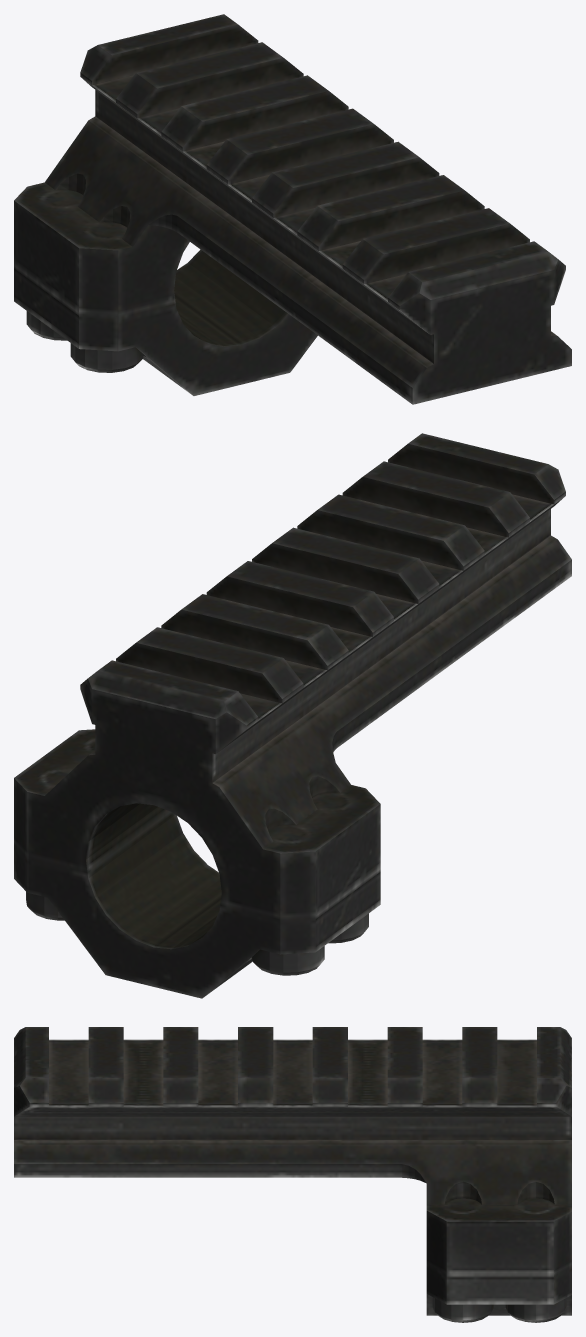
3 renders of one model, top to bottom at view 1: azimuth 30°, elevation 25°; view 2: azimuth 150°, elevation 25°; view 3: azimuth 270°, elevation 25°, orthographic. The views are drawn at different scales.
Parts seen in each view (by area): view 1: TW_5e569a132642e66b0b68015c_PZ_Import; view 2: TW_5e569a132642e66b0b68015c_PZ_Import; view 3: TW_5e569a132642e66b0b68015c_PZ_Import.
Part boxes in pixels (box(x1,y1,x2,y2)): TW_5e569a132642e66b0b68015c_PZ_Import: box(14, 14, 571, 404); TW_5e569a132642e66b0b68015c_PZ_Import: box(14, 433, 571, 998); TW_5e569a132642e66b0b68015c_PZ_Import: box(14, 1027, 571, 1322).
Size of the model in its own units: 0.0222 by 0.0431 by 0.0208.
Materials: 1 (1 with a texture image).
